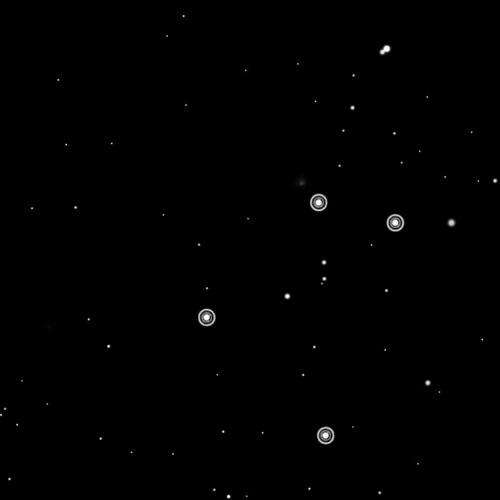coma_berenices: (188, 182, 414, 451)
